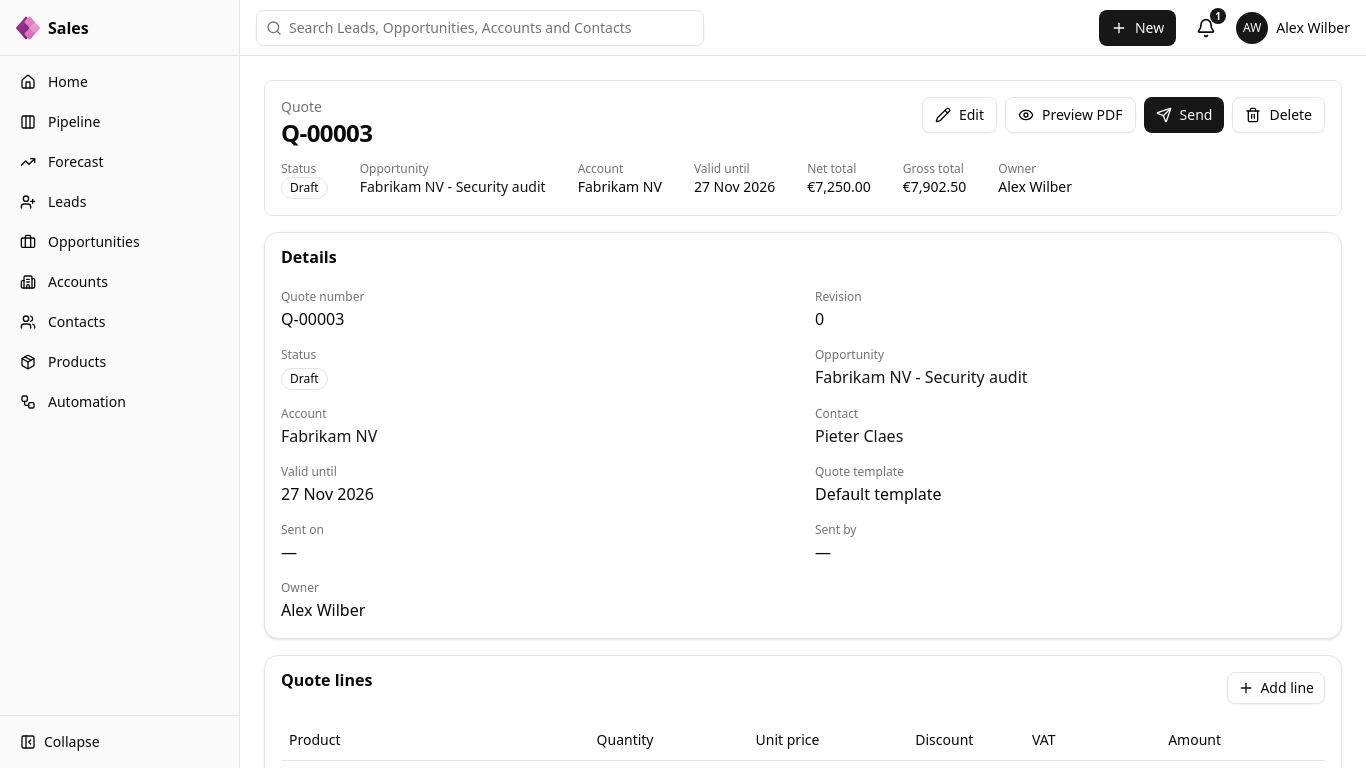
Test: The Quote template of a Quote › uses the Default template unless the Owner picks another while it is a Draft
Expected: the text "Default template" is shown, [815,483,942,505]
Click the button "Edit" at (960, 115), box [922,97,997,133]
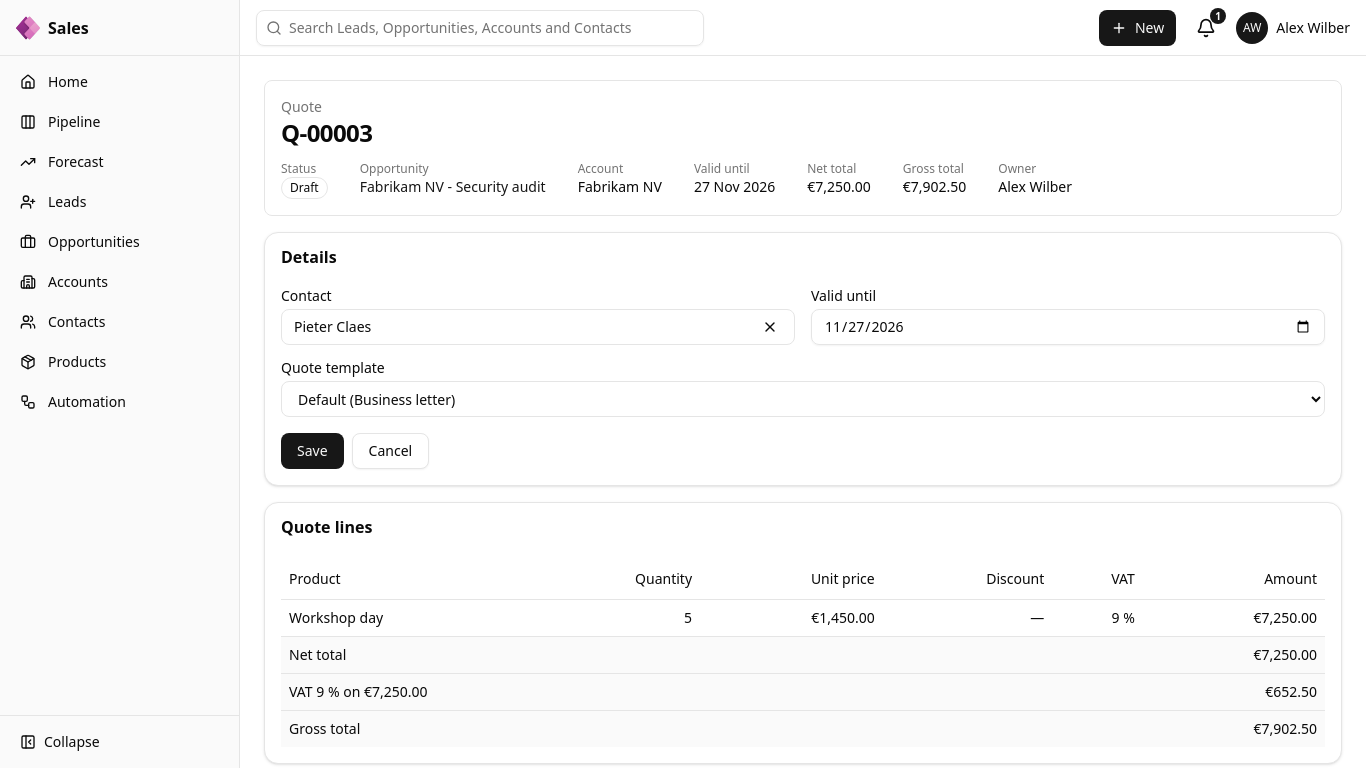
Select "Proposal" in the dropdown labelled "Quote template" at (803, 399), box [281,381,1325,417]
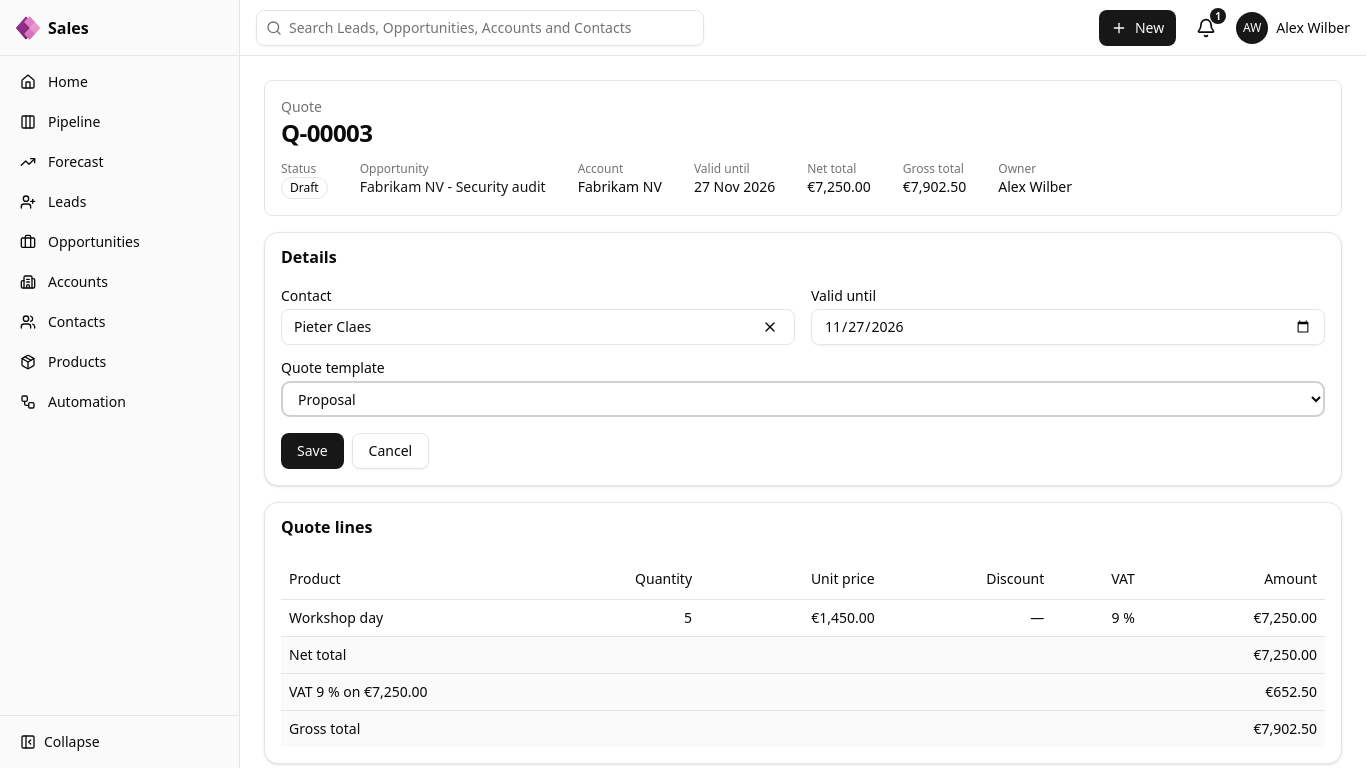
Click the button "Save" at (312, 451), box [281,433,344,469]
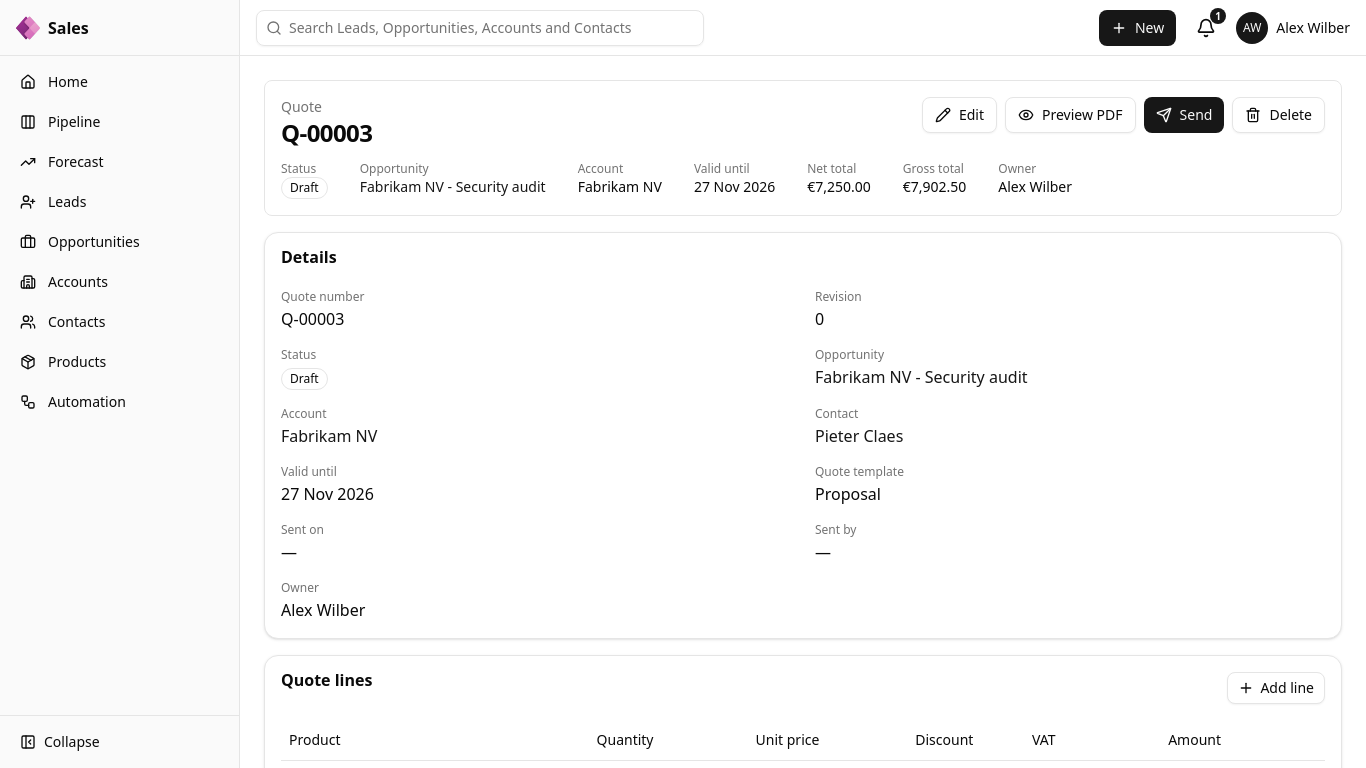
Now the text "Proposal" is shown, box [815,483,881,505]
